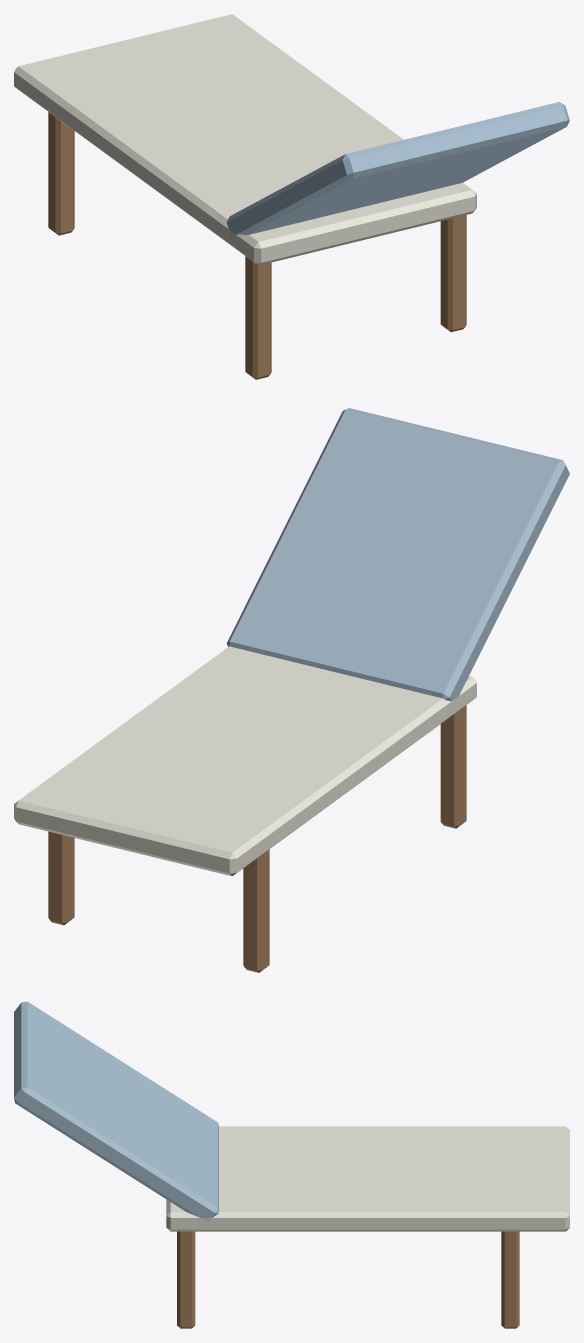
The model's file is sun_lounger.glb.
The picture shows the model from 3 angles, top to bottom: view 1: azimuth 30°, elevation 25°; view 2: azimuth 150°, elevation 25°; view 3: azimuth 270°, elevation 25°; orthographic projection. The views are drawn at different scales.
Visible parts, largest first — view 1: seat, back, leg (×3); view 2: back, seat, leg (×3); view 3: seat, back, leg (×2).
Boxes of the visible parts, x1=… form: seat: x1=14, y1=14, x2=476, y2=265; back: x1=226, y1=102, x2=569, y2=236; leg (×3): x1=48, y1=112, x2=466, y2=379; back: x1=226, y1=408, x2=569, y2=701; seat: x1=14, y1=646, x2=476, y2=876; leg (×3): x1=48, y1=705, x2=466, y2=972; seat: x1=166, y1=1126, x2=569, y2=1231; back: x1=14, y1=1001, x2=218, y2=1222; leg (×2): x1=177, y1=1231, x2=519, y2=1328.
Size of the model in its own units: 0.64 by 0.8085 by 1.68.
